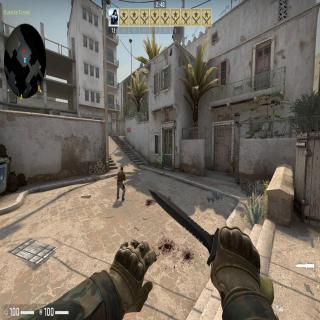T-Body: (116, 166, 128, 200)
T-Head: (120, 166, 124, 172)
